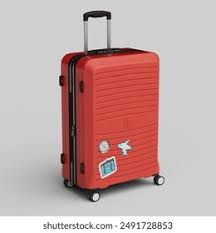suitcase: (58, 10, 162, 202)
